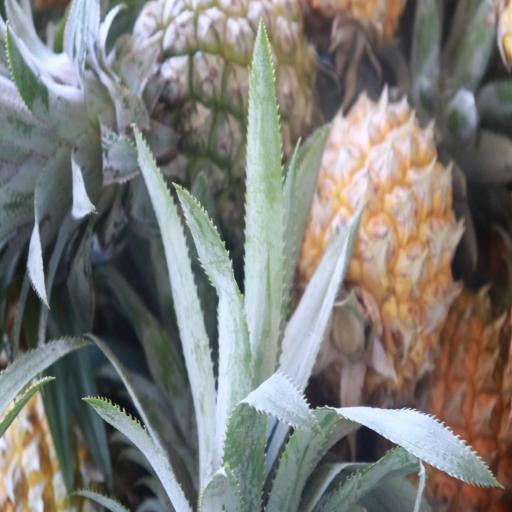Pineapple - v8 v1: (310, 99, 458, 376)
